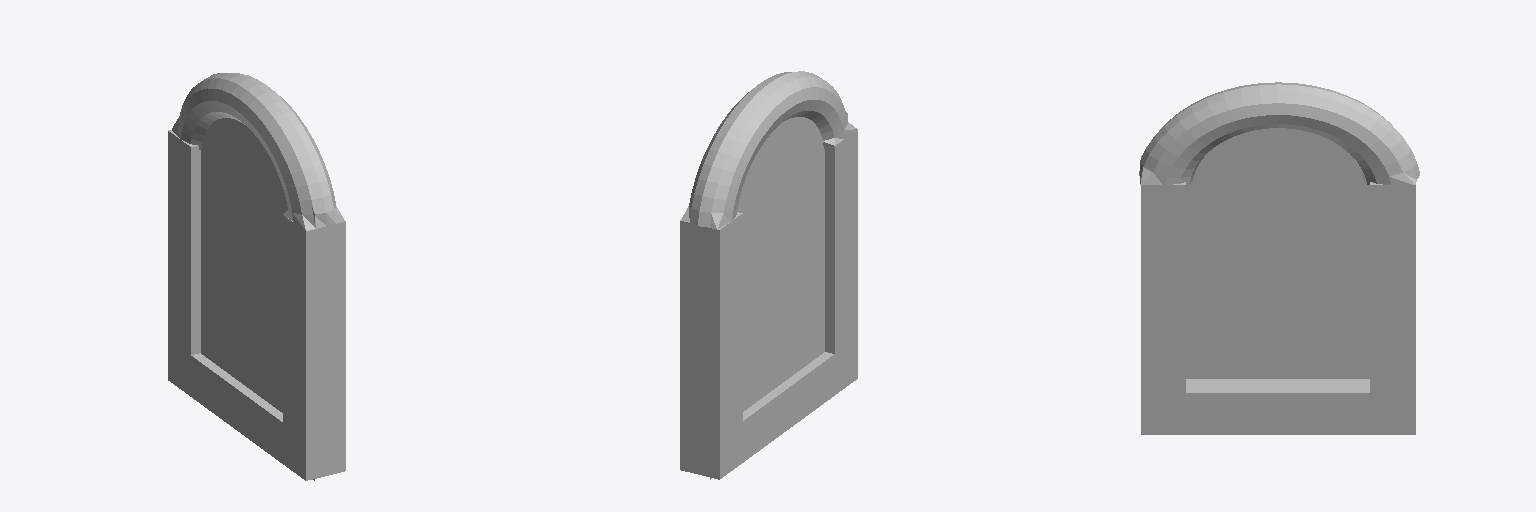
The model's file is botato_gate.obj.
3 renders of one model, left to right at view 1: azimuth 30°, elevation 25°; view 2: azimuth 150°, elevation 25°; view 3: azimuth 270°, elevation 25°, orthographic.
Parts seen in each view (by area): view 1: Plane, Cube.002, Torus, Cube, Cube.001; view 2: Plane, Cube.001, Torus, Cube, Cube.002; view 3: Plane, Torus, Cube, Cube.001, Cube.002.
Part boxes in pixels (bbox=[...]): Plane: bbox=[201, 118, 314, 480]; Cube.002: bbox=[283, 215, 345, 480]; Torus: bbox=[172, 73, 345, 230]; Cube: bbox=[168, 339, 345, 480]; Cube.001: bbox=[168, 130, 200, 390]; Plane: bbox=[710, 111, 847, 479]; Cube.001: bbox=[680, 212, 742, 479]; Torus: bbox=[681, 71, 856, 229]; Cube: bbox=[680, 337, 857, 479]; Cube.002: bbox=[825, 129, 857, 391]; Plane: bbox=[1141, 128, 1369, 378]; Torus: bbox=[1139, 82, 1419, 184]; Cube: bbox=[1141, 379, 1415, 434]; Cube.001: bbox=[1370, 182, 1415, 434]; Cube.002: bbox=[1141, 182, 1185, 434].
Bounding box in the file's own units: 1 × 8.25 × 6.12.